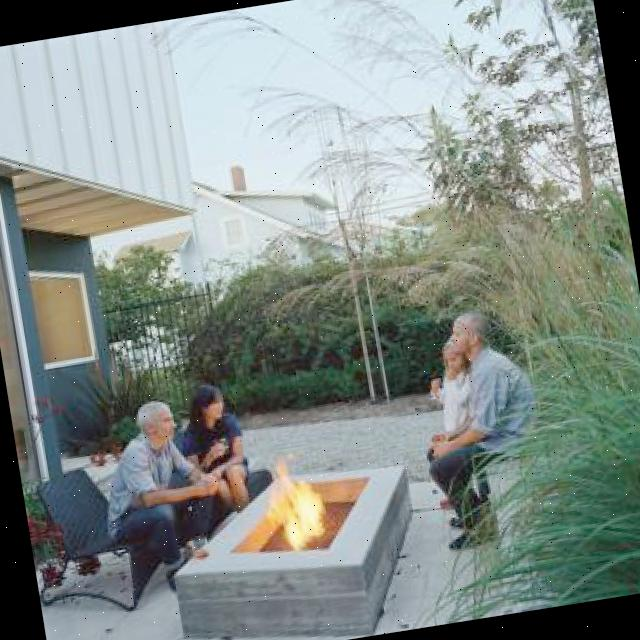fire: (264, 445, 339, 565)
